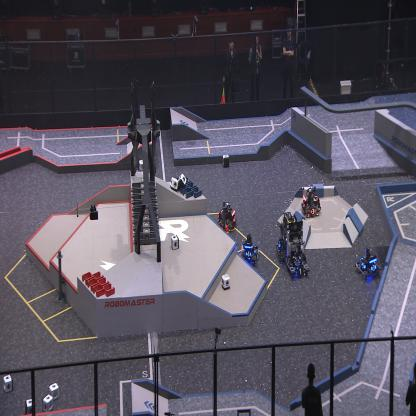car: (284, 221, 310, 277), (276, 211, 299, 259), (354, 246, 381, 280), (216, 199, 237, 231), (301, 184, 321, 217), (240, 233, 258, 266)
